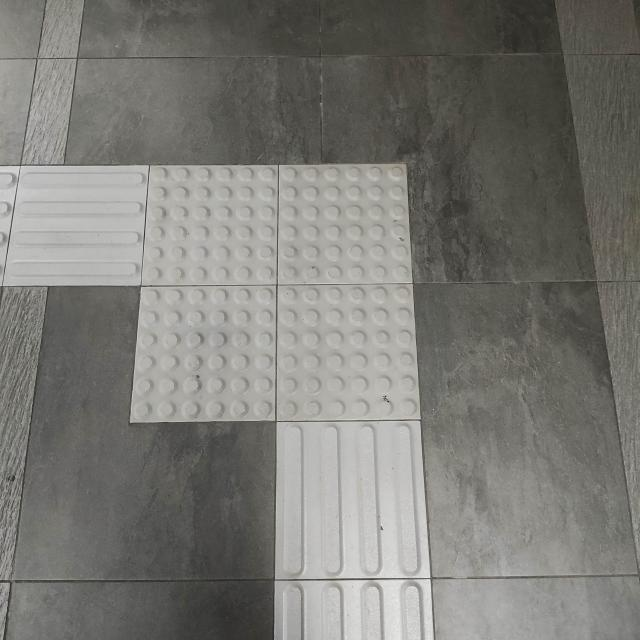kiri: (0, 114, 525, 513)
